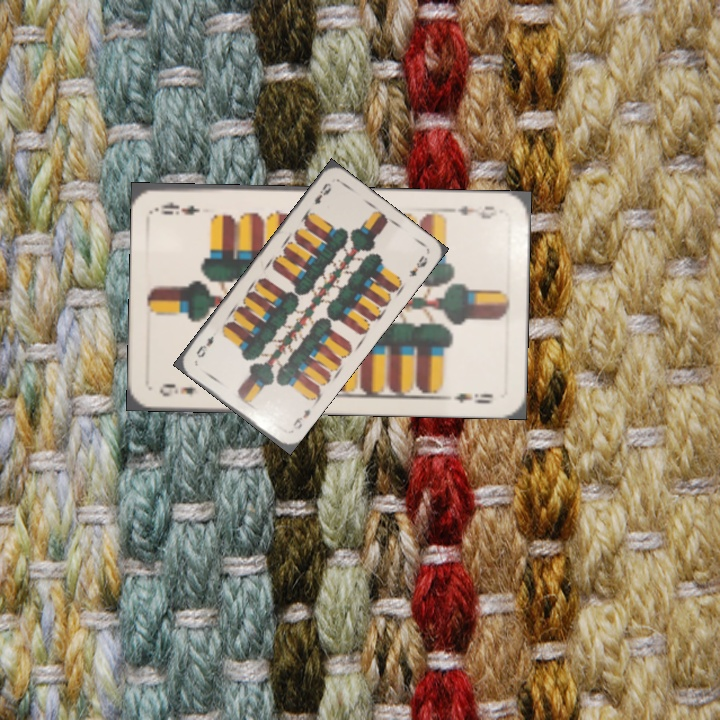E9: (445, 201, 500, 221), (155, 380, 199, 399), (310, 178, 334, 207), (289, 405, 313, 432)
